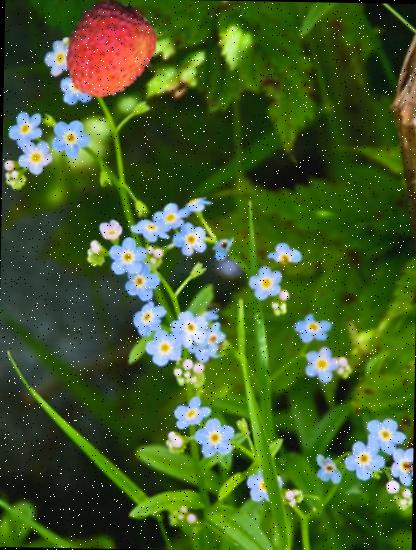Lychee: (55, 0, 158, 102)
